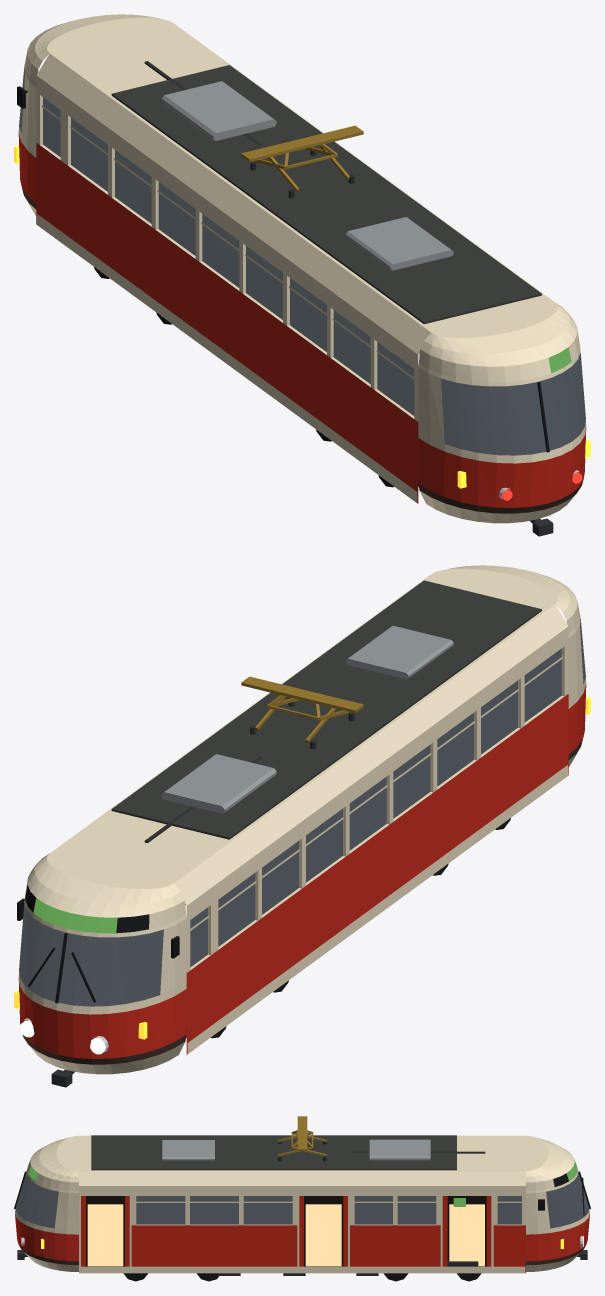
The model's file is t3rp-open.glb.
3 renders of one model, top to bottom at view 1: azimuth 30°, elevation 25°; view 2: azimuth 150°, elevation 25°; view 3: azimuth 270°, elevation 25°, orthographic. The views are drawn at different scales.
Parts seen in each view (by area): view 1: t3rp-open; view 2: t3rp-open; view 3: t3rp-open.
Boxes of the visible parts, x1=… form: t3rp-open: x1=14, y1=14, x2=590, y2=536; t3rp-open: x1=14, y1=565, x2=590, y2=1087; t3rp-open: x1=14, y1=1116, x2=590, y2=1281.
Bounding box in the file's own units: 2.61 × 3.58 × 14.2.
